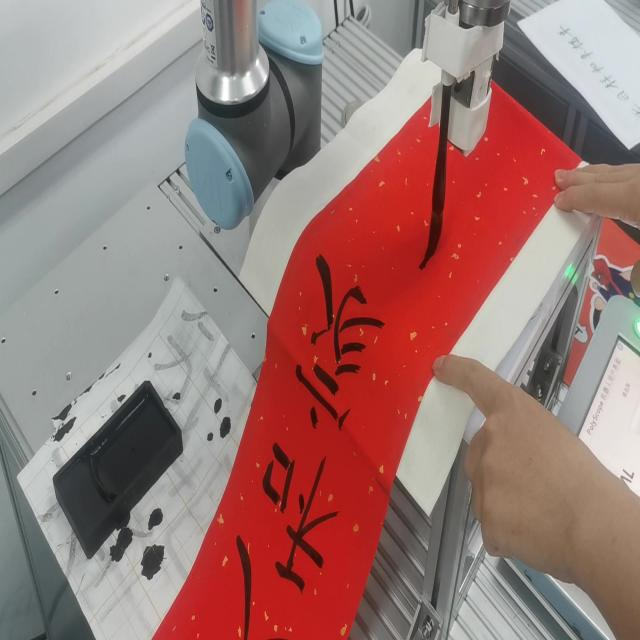head: (420, 207, 444, 263)
inkstone: (51, 376, 186, 560)
